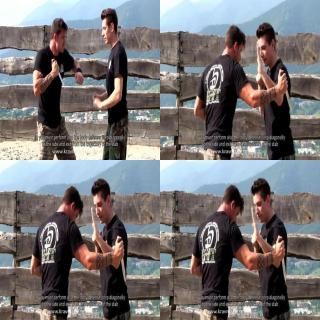knife: (277, 68, 293, 114), (276, 235, 288, 283), (115, 235, 126, 283), (51, 57, 66, 90)
